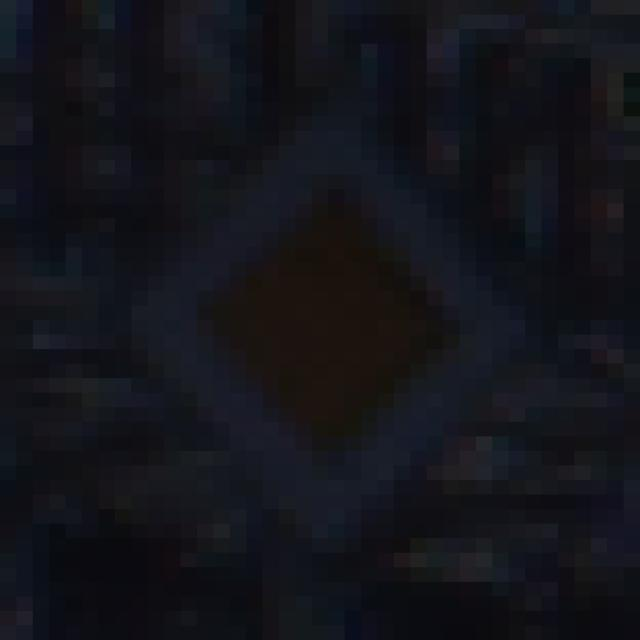Main Road: (99, 74, 559, 568)
